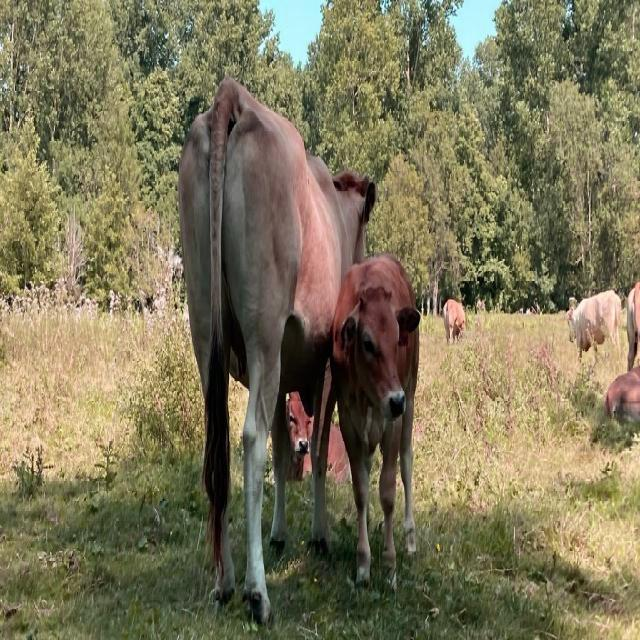cow: (179, 79, 375, 623), (332, 255, 420, 587)
